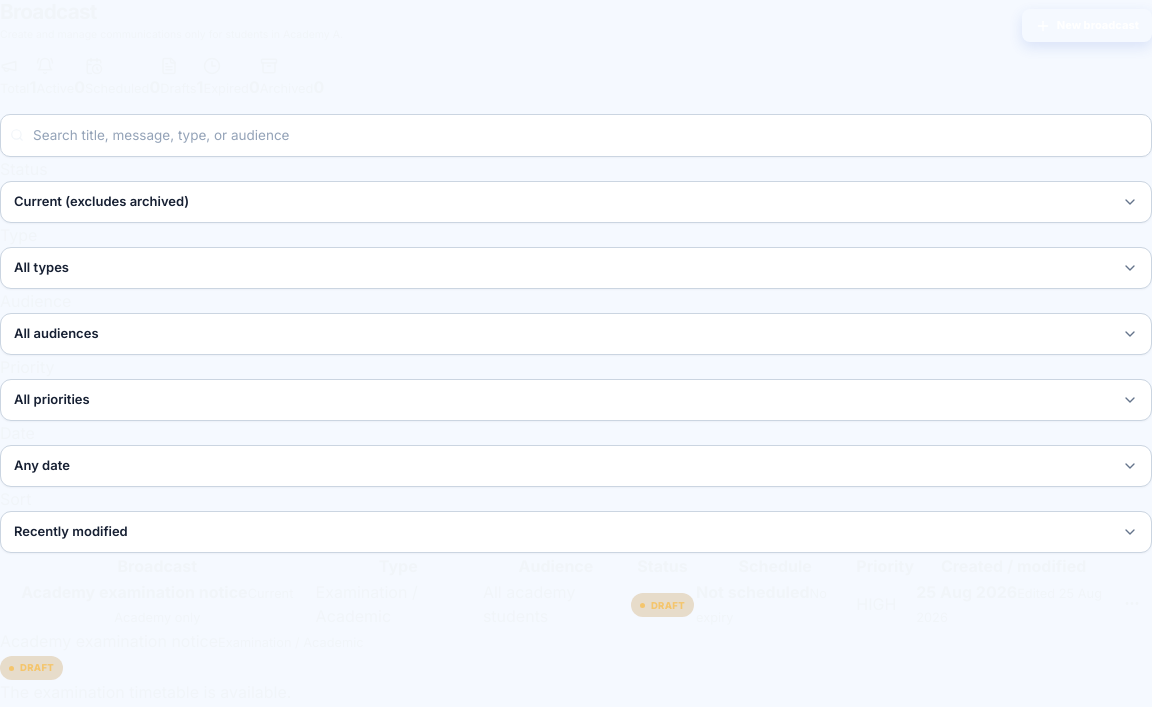
Test: Academy Questions and Broadcast shared-module parity › renders shared Broadcast stats, filters, listing, and Academy-only editor choices
Expected: the field named "Search broadcasts" is shown, [0,114,1151,157]
Click the dropdown labelled "type": point(42, 267) [0,247,1151,289]
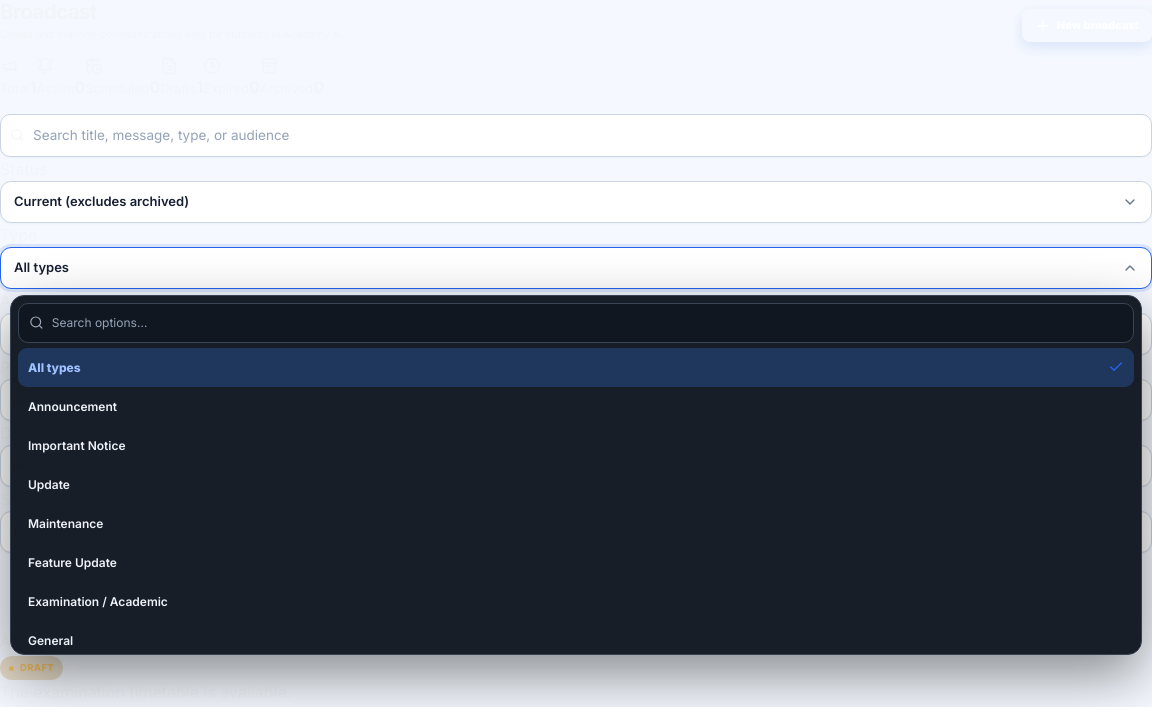
Press Escape
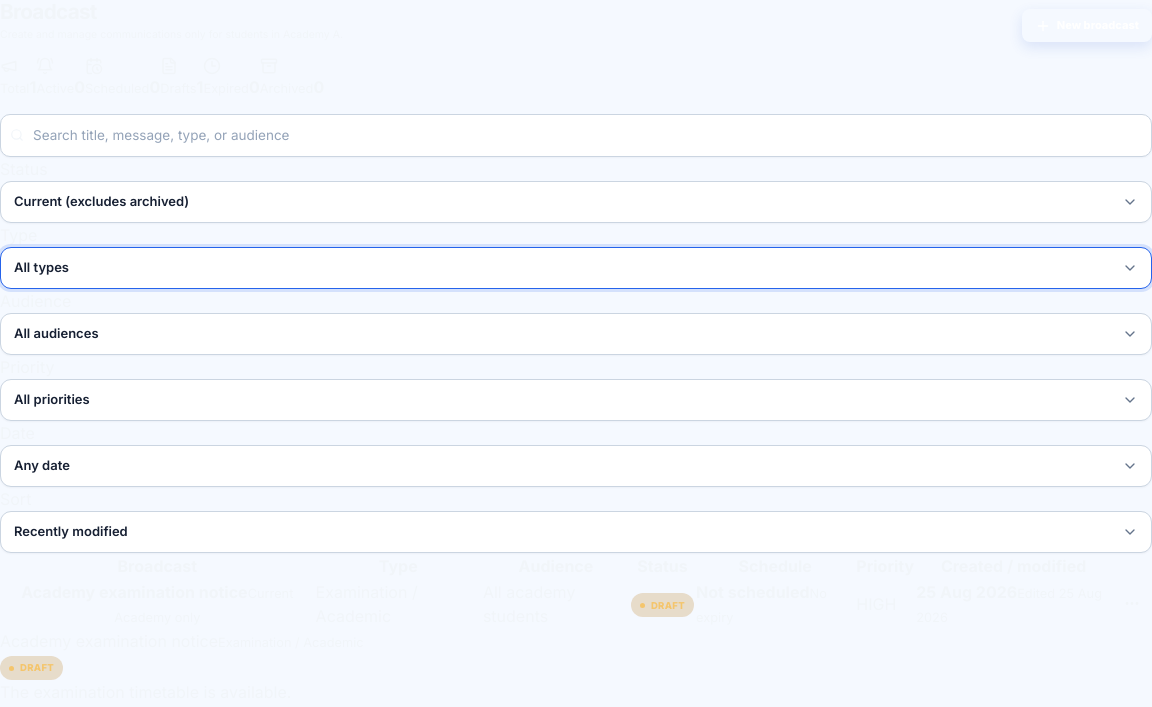
Click the button "New broadcast": point(1087, 26) [1022,9,1151,42]
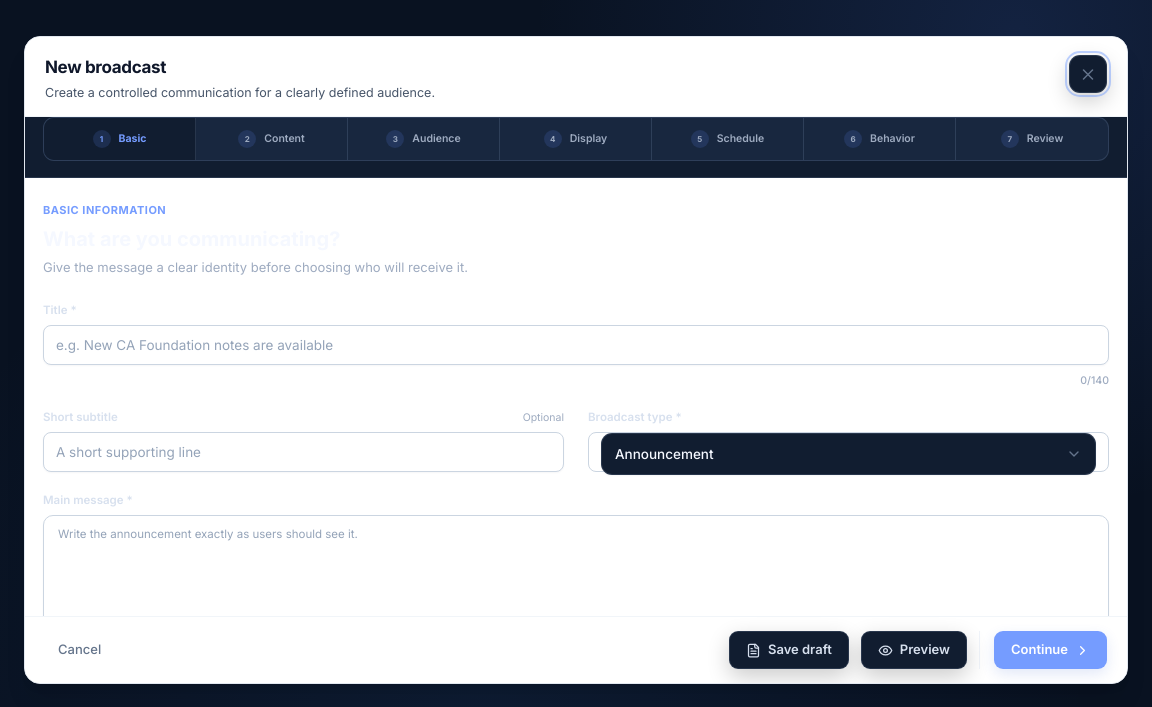
Expected: the button "1 Basic" is shown, [44,118,196,160]
Expected: the button "2 Content" is shown, [196,118,348,160]
Expected: the button "3 Audience" is shown
Click the button "3 Audience": point(424, 139) [348,118,500,160]
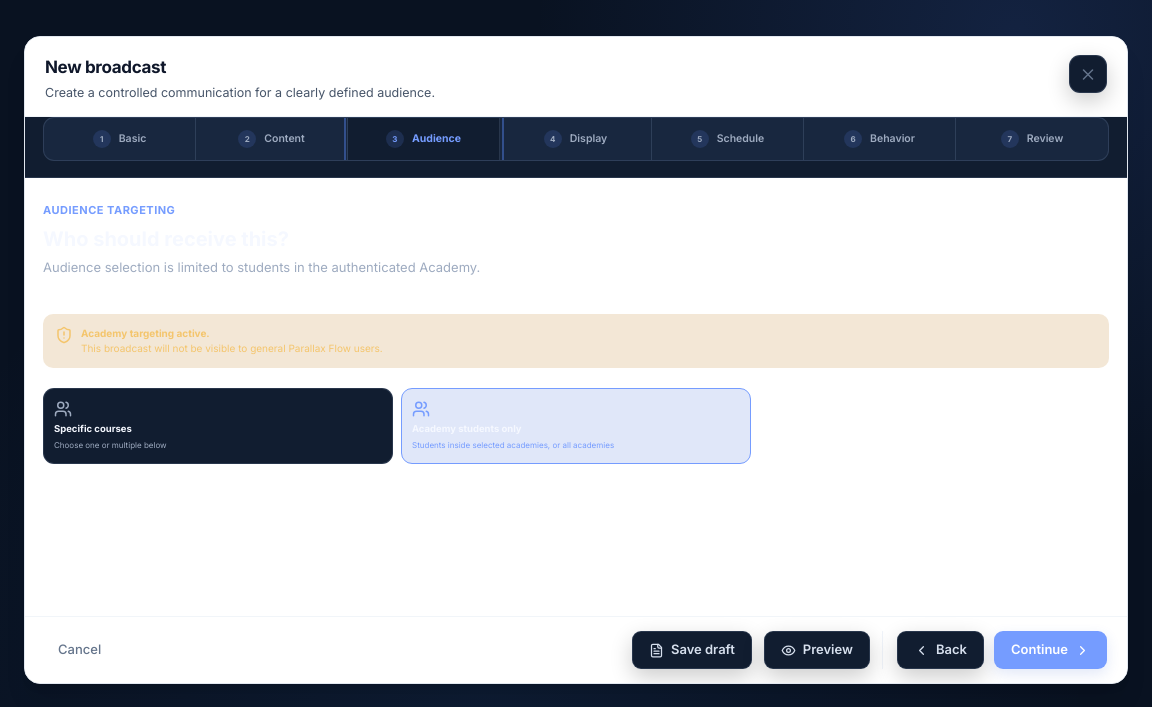
Expected: the button "Academy students only" is shown, [401,388,751,464]
Expected: the button "Specific courses Choose one or multiple below" is shown, [43,388,393,464]
Click the button "4 Display": point(576, 139) [500,118,652,160]
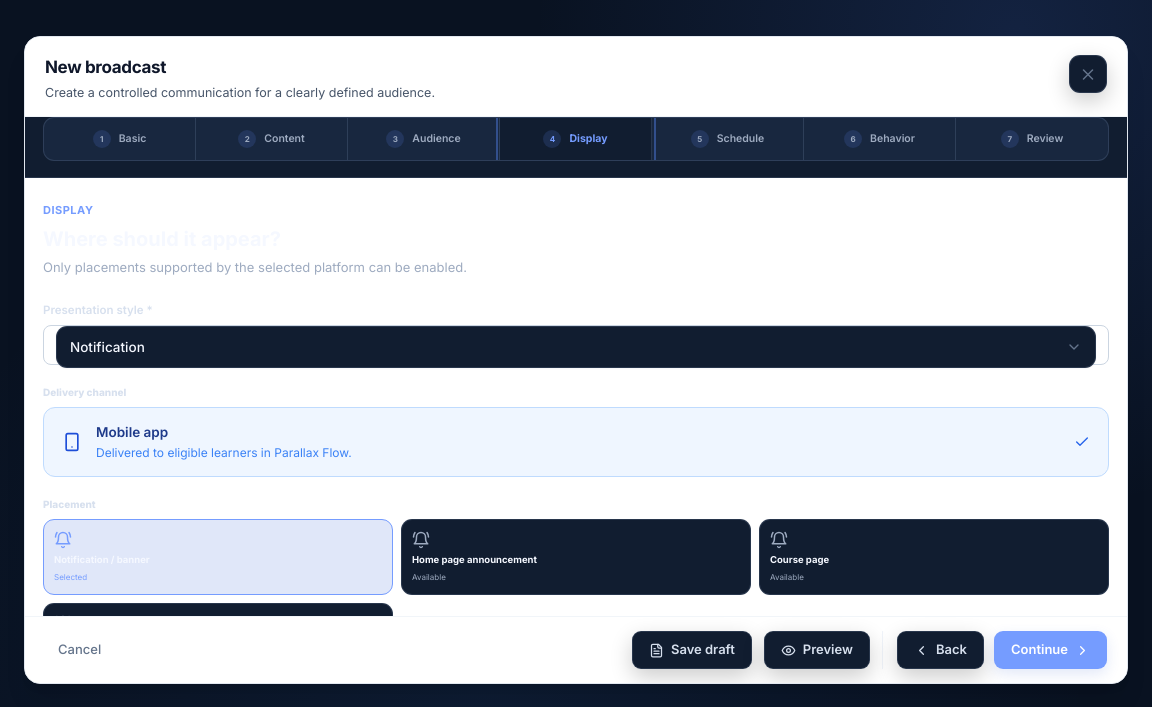
Expected: the text "Mobile app" is shown, [96,424,168,440]
